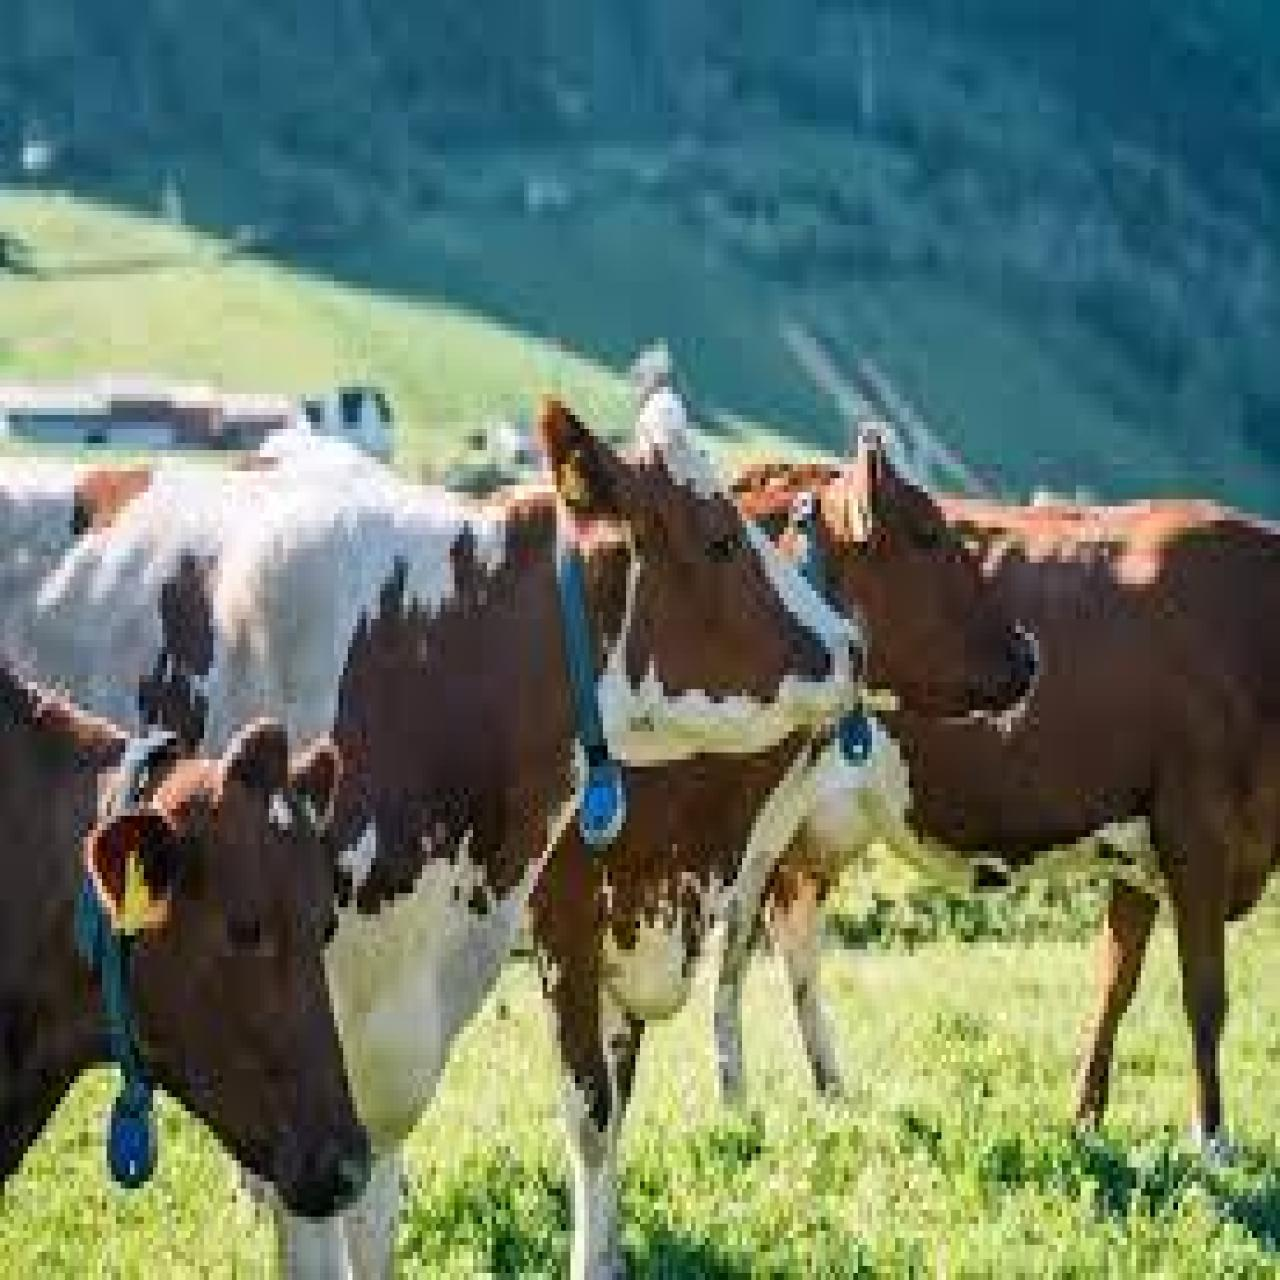cow: (0, 380, 867, 1280), (529, 415, 1048, 1280), (704, 457, 1280, 1167), (0, 640, 376, 1273), (301, 387, 399, 457)
